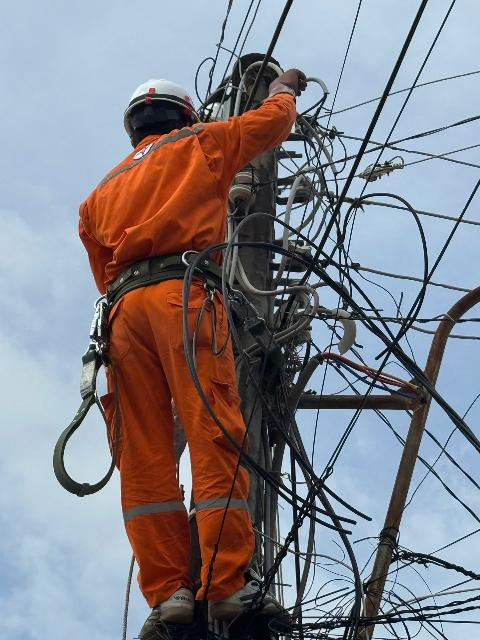gloves: (259, 63, 327, 108)
harness: (73, 250, 289, 304)
helmet: (100, 62, 223, 142)
shoes: (208, 562, 298, 631), (115, 578, 203, 640)
